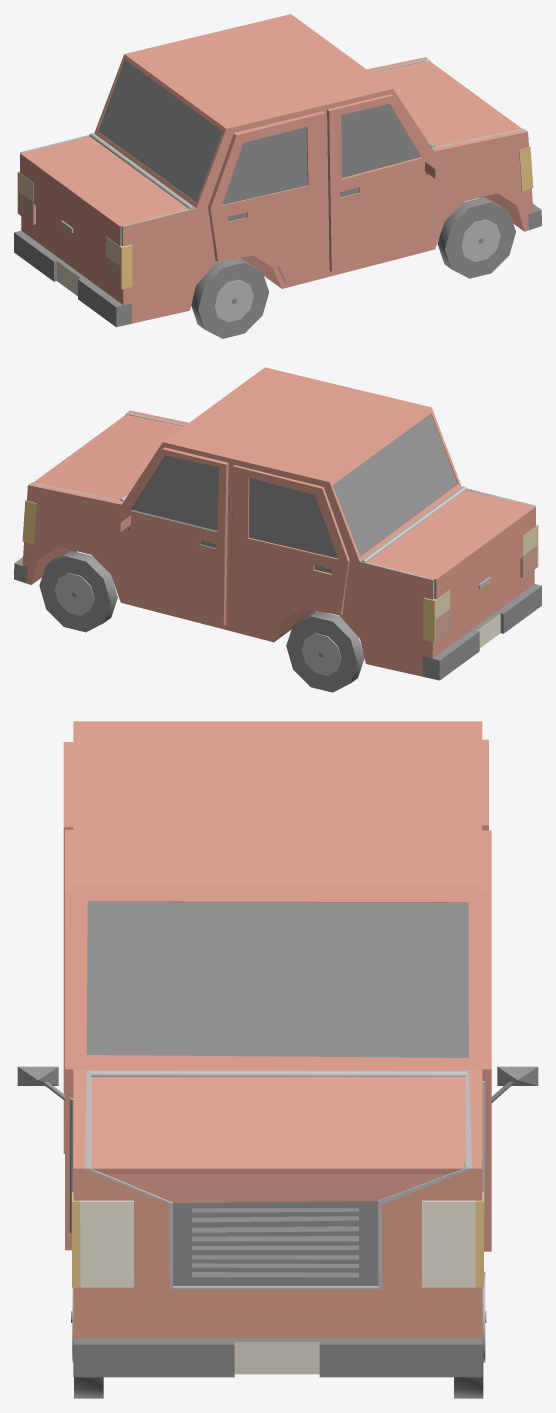
Rendered from kar17.fbx.
3 renders of one model, top to bottom at view 1: azimuth 30°, elevation 25°; view 2: azimuth 150°, elevation 25°; view 3: azimuth 270°, elevation 25°, orthographic. The views are drawn at different scales.
Visible parts, largest first — view 1: Cube_2, Cylinder_4, Cylinder, Cylinder_1, Boole, Cylinder_6, Cylinder_9; view 2: Cube_2, Cylinder_10, Cylinder_5, Cylinder_1, Boole, Cylinder_7, Cylinder_8; view 3: Cube_2, Boole, Cylinder_5, Cylinder, Cylinder_4, Cylinder_7, Cylinder_6.
Part boxes in pixels (<box>): Cube_2: <box>14,14,541,327</box>; Cylinder_4: <box>208,111,328,284</box>; Cylinder: <box>327,94,435,271</box>; Cylinder_1: <box>20,133,194,256</box>; Boole: <box>371,61,521,147</box>; Cylinder_6: <box>437,197,515,278</box>; Cylinder_9: <box>191,258,269,338</box>; Cube_2: <box>14,367,541,680</box>; Cylinder_10: <box>230,465,349,638</box>; Cylinder_5: <box>120,447,228,625</box>; Cylinder_1: <box>361,486,535,609</box>; Boole: <box>33,414,183,501</box>; Cylinder_7: <box>39,550,117,632</box>; Cylinder_8: <box>286,611,364,692</box>; Cube_2: <box>72,721,483,1377</box>; Boole: <box>91,1070,466,1285</box>; Cylinder_5: <box>482,830,538,1251</box>; Cylinder: <box>17,829,73,1250</box>; Cylinder_4: <box>63,742,73,1153</box>; Cylinder_7: <box>454,1271,486,1398</box>; Cylinder_6: <box>71,1287,103,1398</box>.
Bounding box in the file's own units: 457 × 215 × 242.
